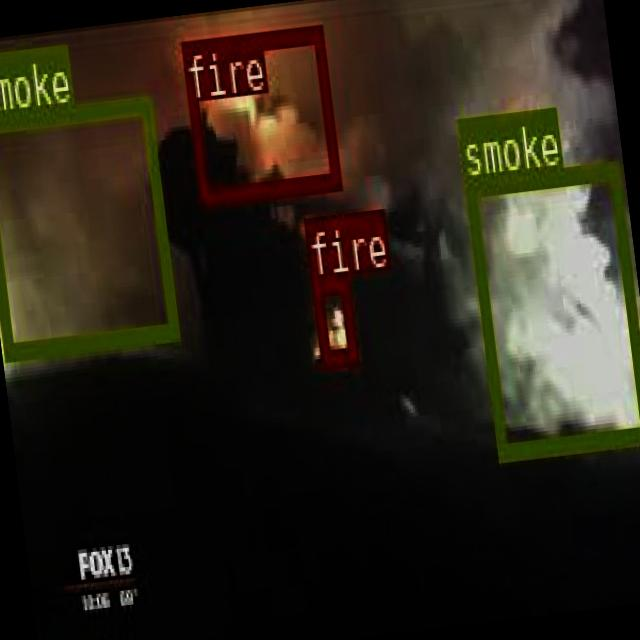fire: (178, 22, 338, 201), (309, 271, 355, 363)
smoke: (463, 159, 640, 458), (0, 94, 175, 356)
